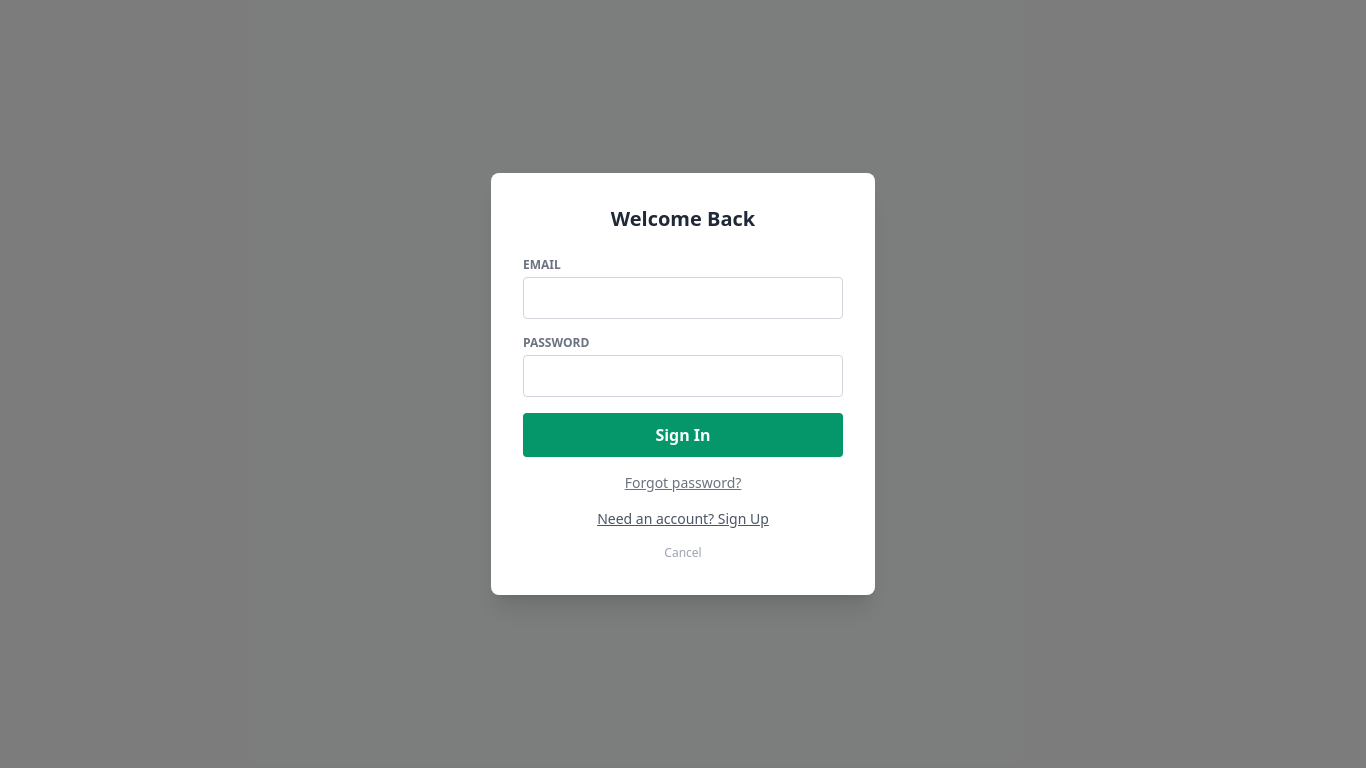
Test: AuthModal › switches to Sign Up mode when the toggle link is clicked
What coordinates should you click on to do the following:
click the text with class "underline" showing "Need an account? Sign Up"
I would click on:
 (683, 518)
Its box is [597,509,769,528].
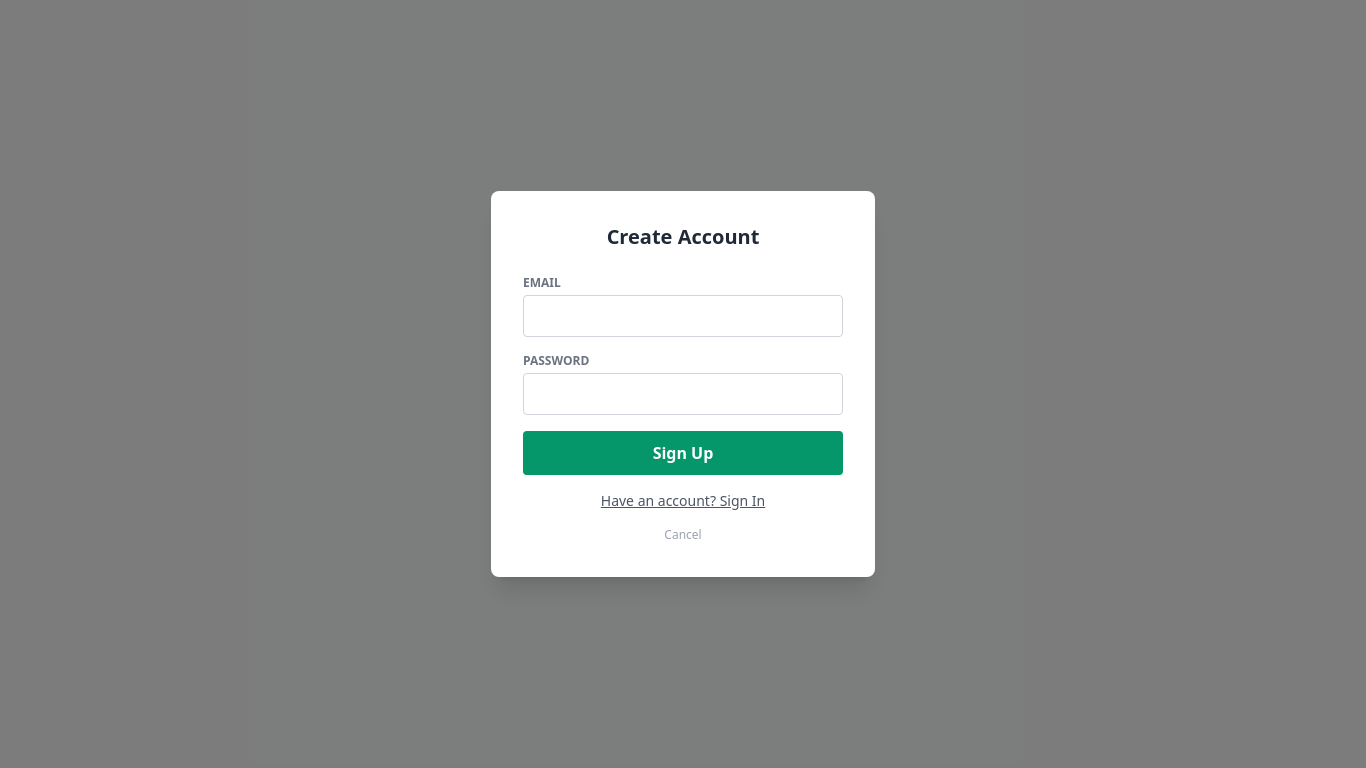
Check: the text "Create Account" is shown, box [607,223,759,250]
Check: the button "Sign Up" is shown, box [523,431,843,475]
